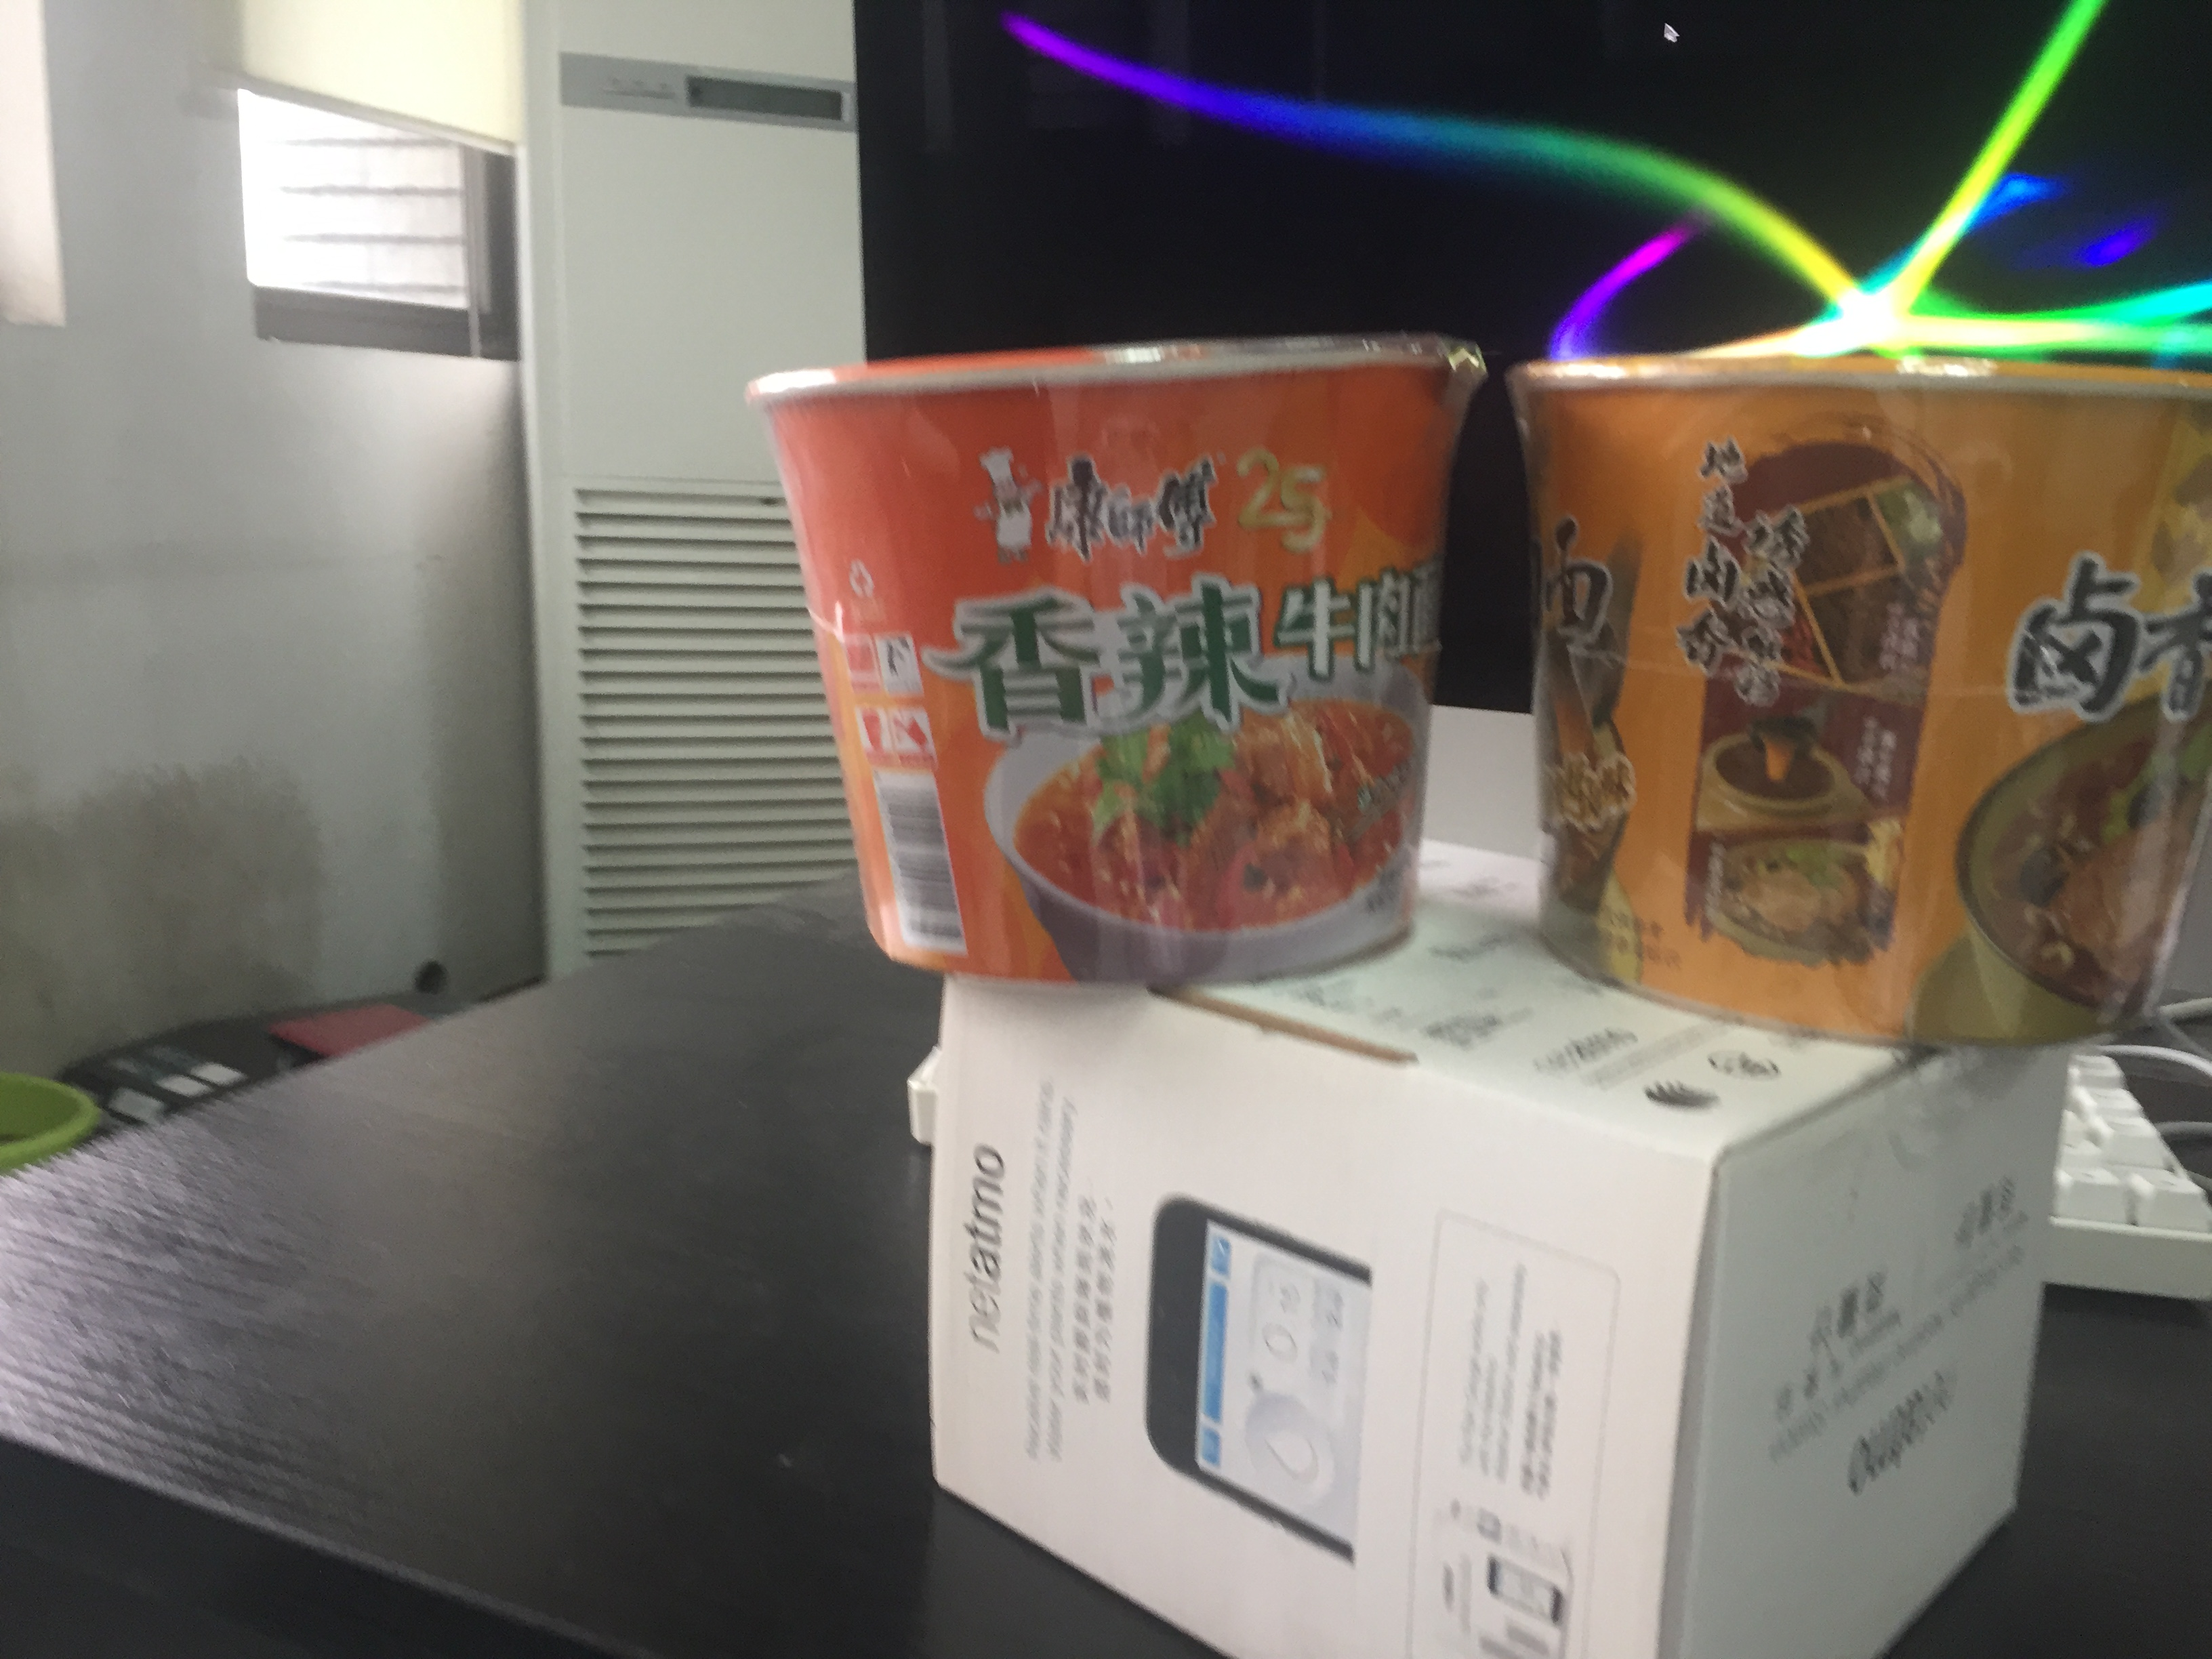luxiang: (1503, 352, 2212, 1051)
xiangla: (742, 338, 1486, 990)
